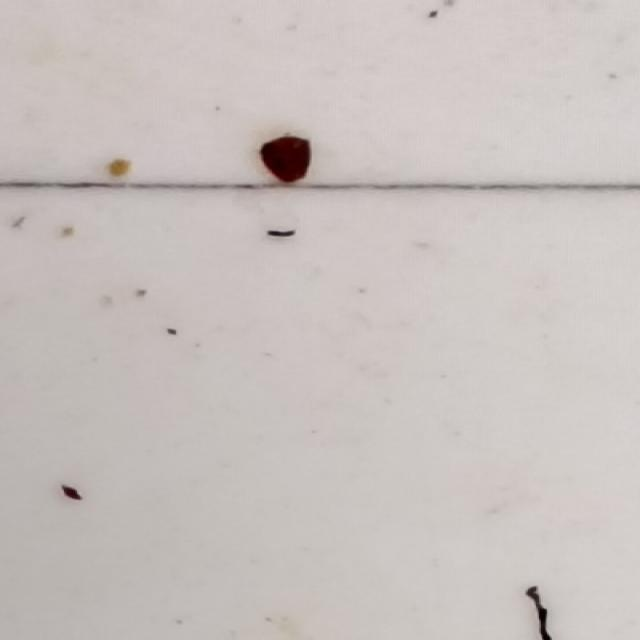varroa: (261, 136, 317, 183)
